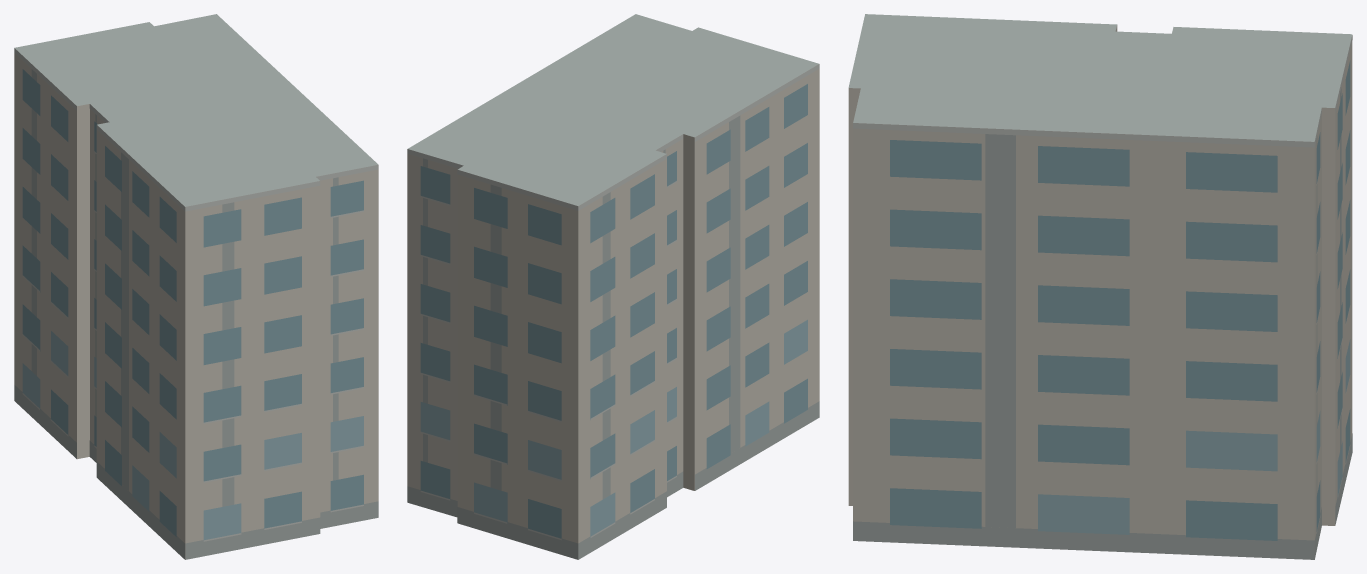
Rendered from survey-upis-32638347.glb.
3 renders of one model, left to right at view 1: azimuth 30°, elevation 25°; view 2: azimuth 150°, elevation 25°; view 3: azimuth 270°, elevation 25°, orthographic. The views are drawn at different scales.
Visible parts, largest first — view 1: survey-upis-32638347.tmp; view 2: survey-upis-32638347.tmp; view 3: survey-upis-32638347.tmp.
Part boxes in pixels (x1,y1,x2,y2): survey-upis-32638347.tmp: [14, 14, 378, 559]; survey-upis-32638347.tmp: [407, 14, 819, 559]; survey-upis-32638347.tmp: [848, 14, 1352, 559].
Size of the model in its own units: 11.82 by 18 by 19.68.
